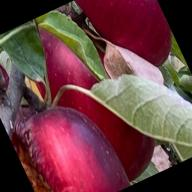Apples: (14, 1, 167, 192), (5, 90, 133, 192), (75, 0, 182, 86)
